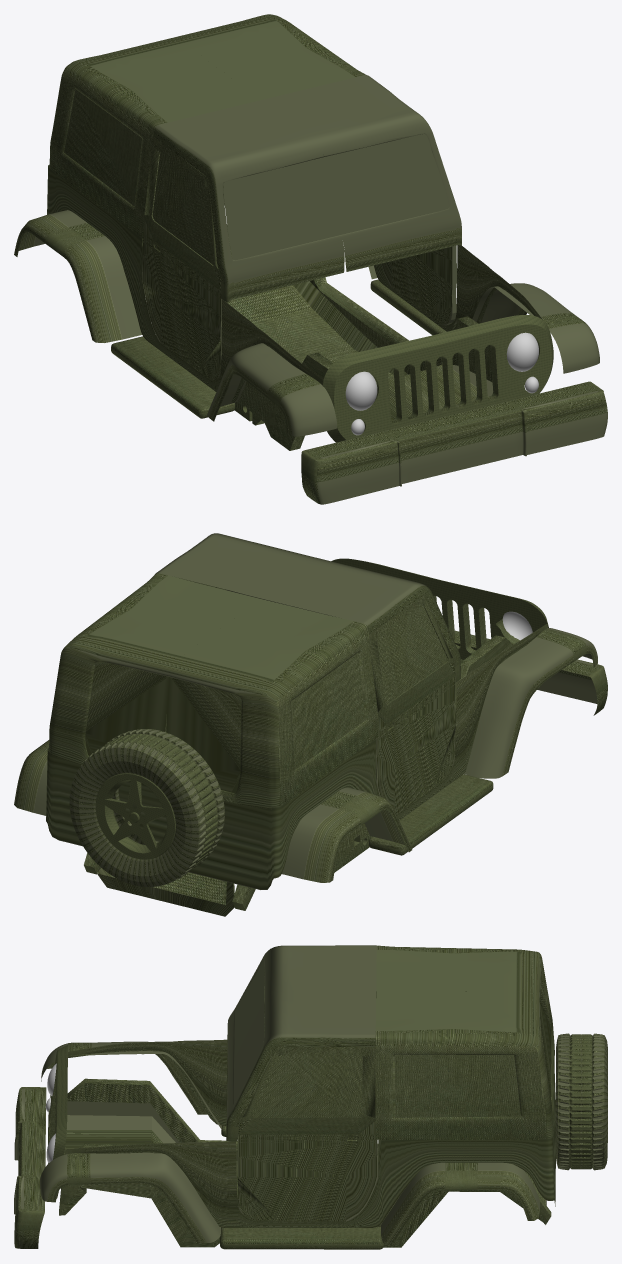
The model's file is jeep_cabina.obj.
The picture shows the model from 3 angles, top to bottom: view 1: azimuth 30°, elevation 25°; view 2: azimuth 150°, elevation 25°; view 3: azimuth 270°, elevation 25°; orthographic projection. The views are drawn at different scales.
Parts seen in each view (by area): view 1: 1, 1.009, 1.008; view 2: 1, 1.009, 1.008; view 3: 1, 1.009, 1.008.
Boxes of the visible parts, left/top/right/bottom form: 1: left=14, top=14, right=607, bottom=504; 1.009: left=226, top=224, right=495, bottom=422; 1.008: left=142, top=238, right=333, bottom=450; 1: left=14, top=533, right=607, bottom=889; 1.009: left=84, top=643, right=476, bottom=916; 1.008: left=232, top=635, right=512, bottom=910; 1: left=14, top=945, right=607, bottom=1249; 1.009: left=59, top=1101, right=551, bottom=1247; 1.008: left=67, top=1078, right=378, bottom=1160.
Bounding box in the file's own units: 144 × 108 × 261.
